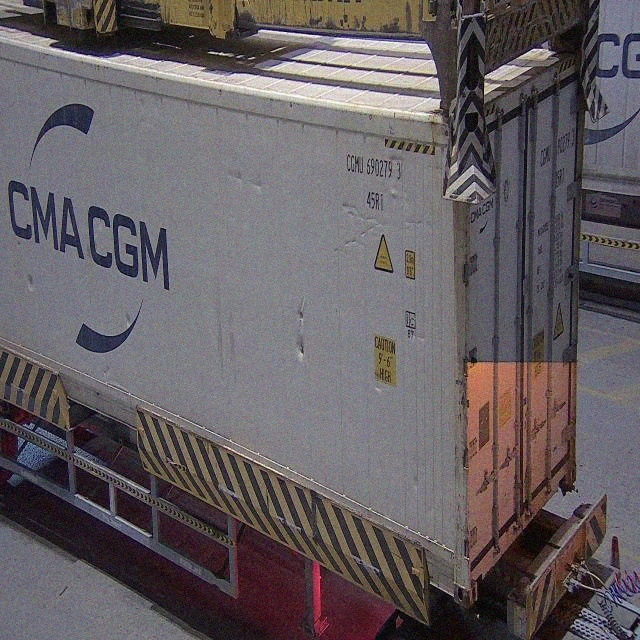Hole: (289, 301, 316, 376)
